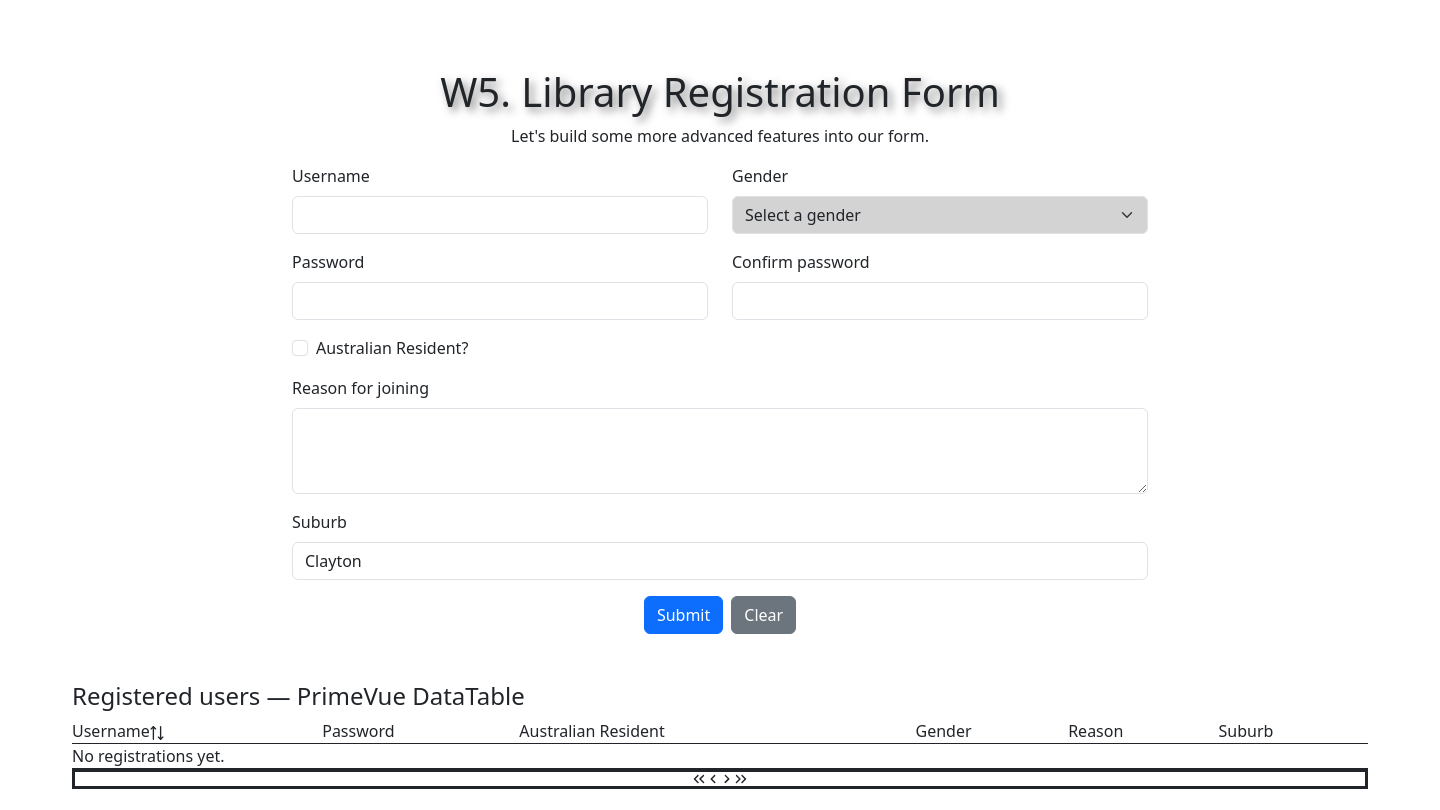
Scenario: LibraryRegistrationForm › displays submitted user information in a Bootstrap card
Step 1. Type "Dinuo" into the field with id "username" → [500, 215], box [292,196,708,234]
Step 2. Type "Secure1!" into the password field labelled "Password" → [500, 301], box [292,282,708,320]
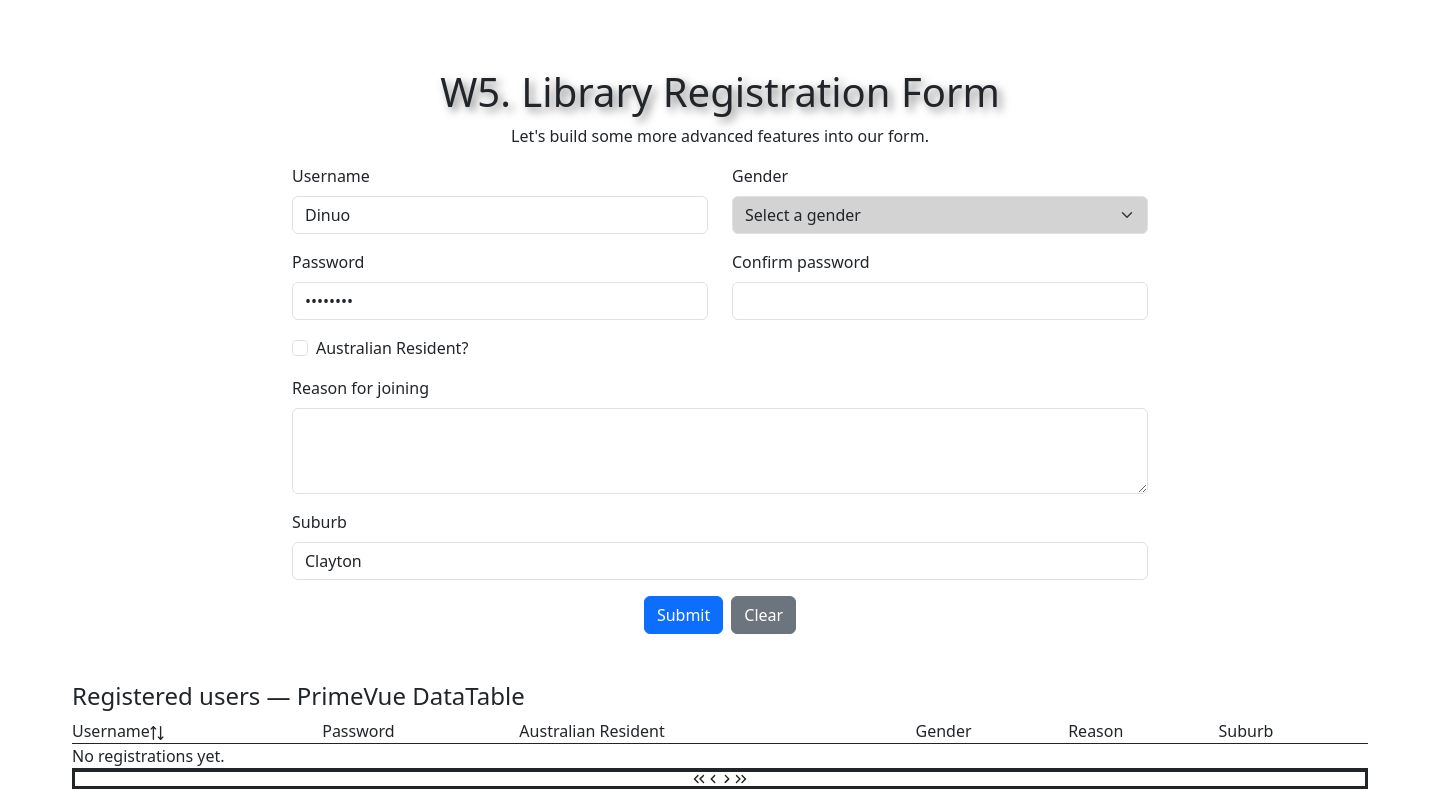
Step 3. Type "Secure1!" into the password field with id "confirm-password" → [940, 301], box [732,282,1148,320]
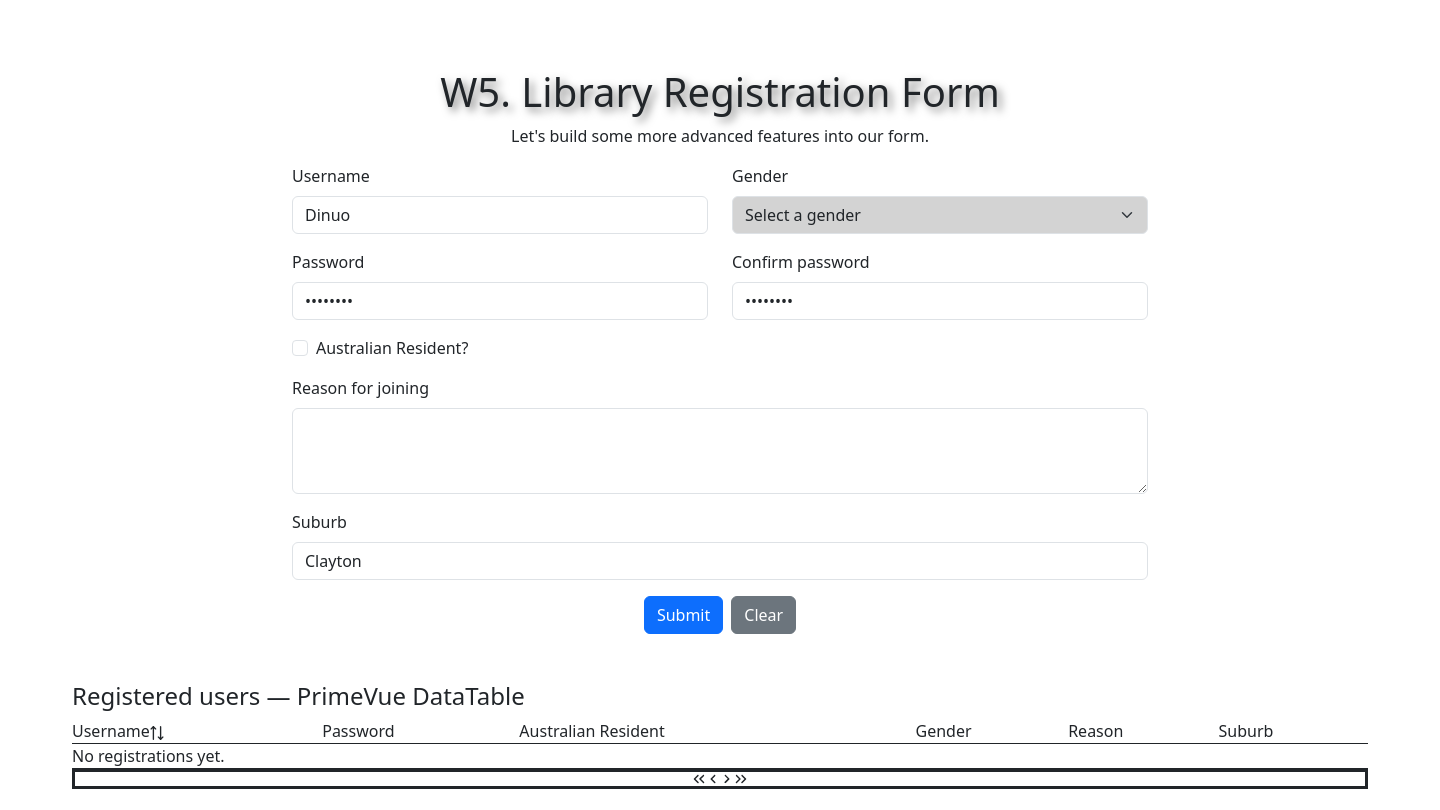
Step 4. Click the checkbox with id "isAustralian" → [300, 348], box [292,340,308,356]
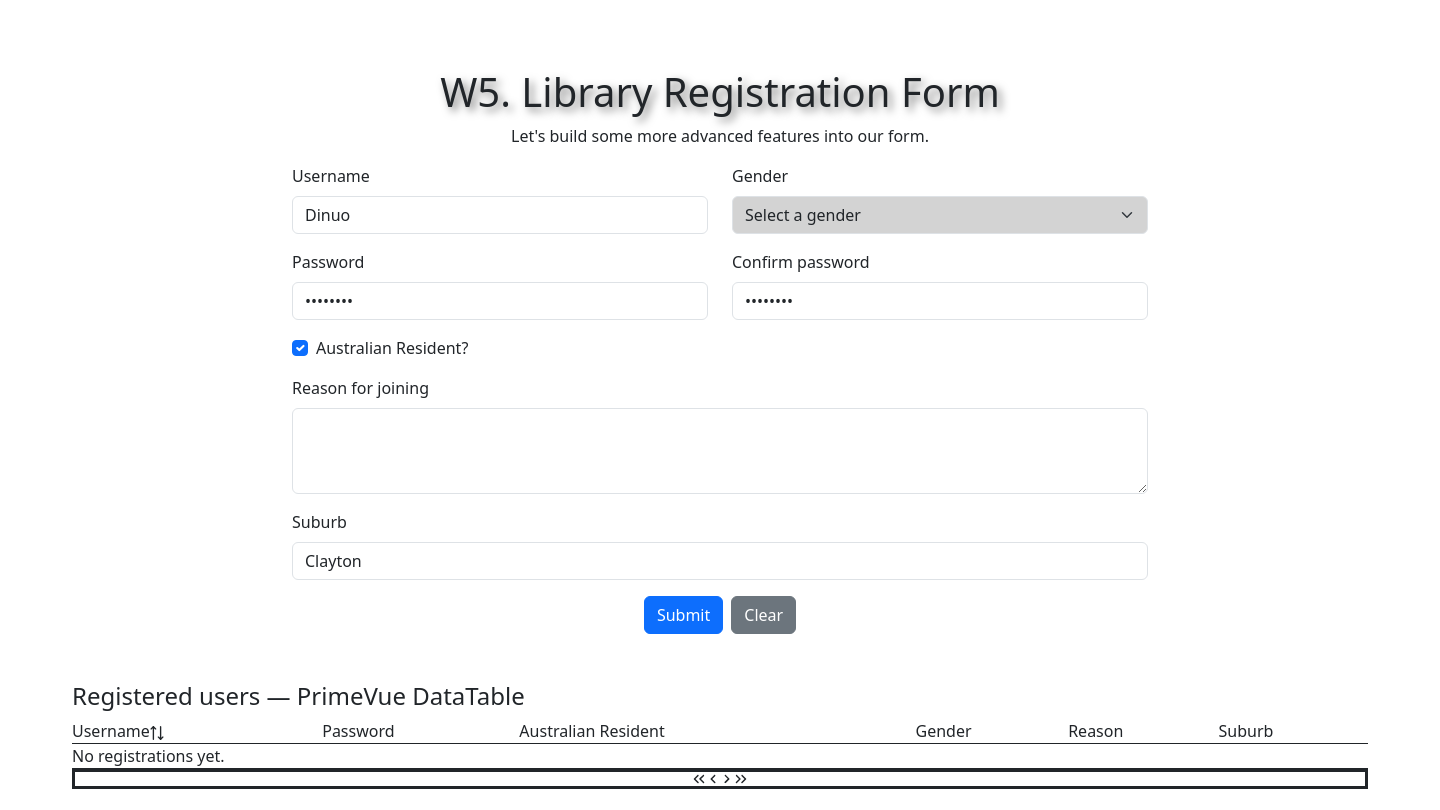
Step 5. Select "Female" in the dropdown with id "gender" → [940, 215], box [732,196,1148,234]
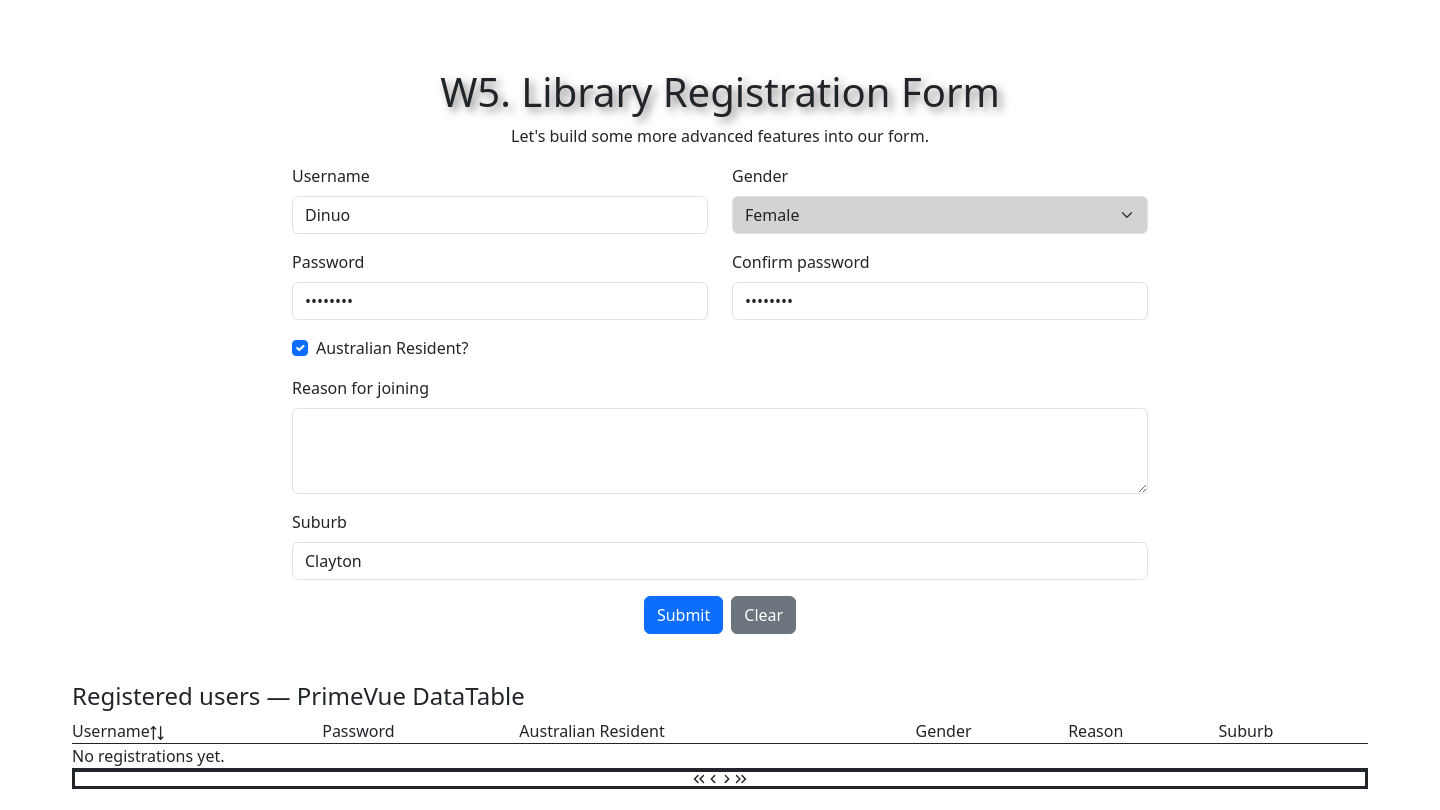
Step 6. Type "I enjoy reading." into the text box with id "reason" → [720, 451], box [292,408,1148,494]
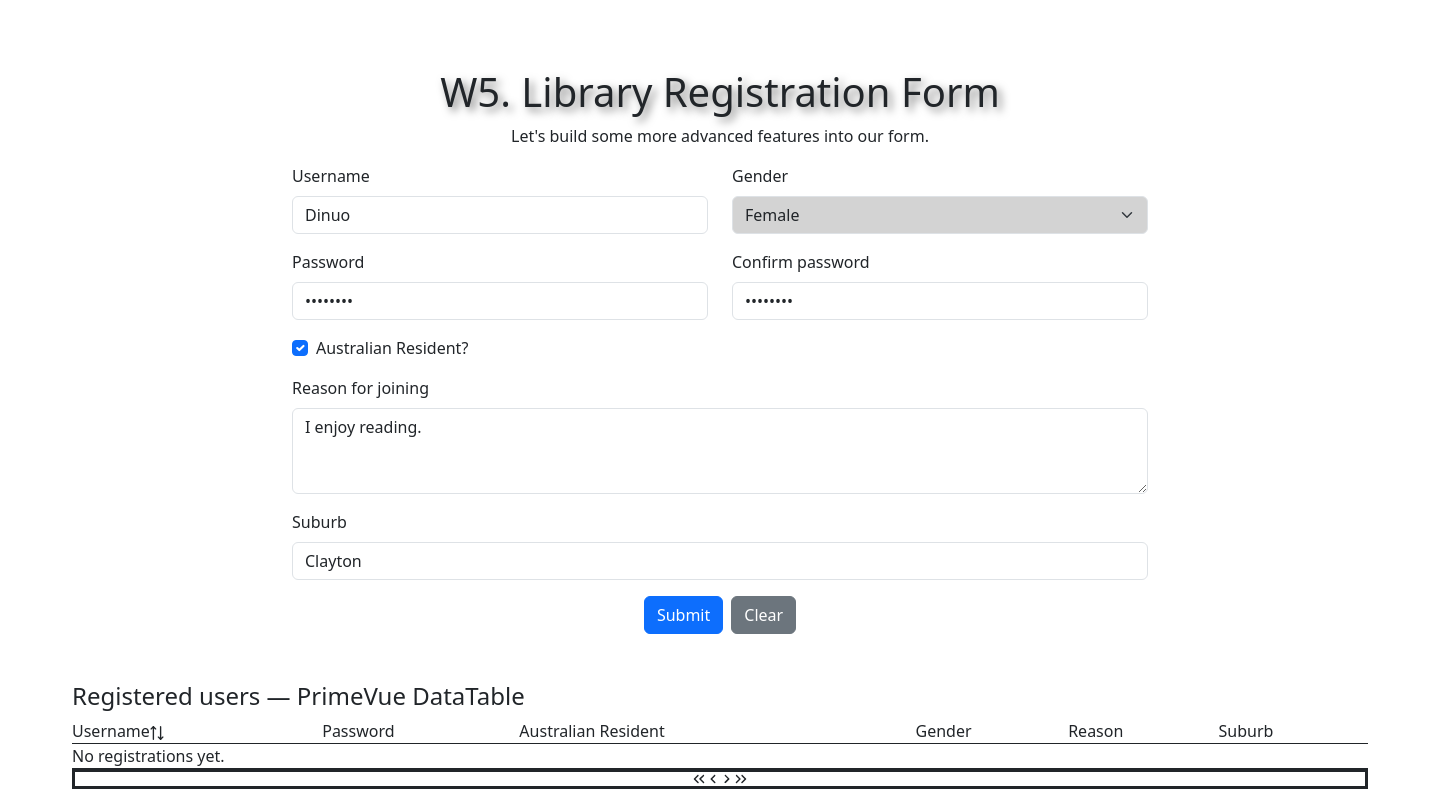
Step 7. Submit the form, box [292,164,1148,634]
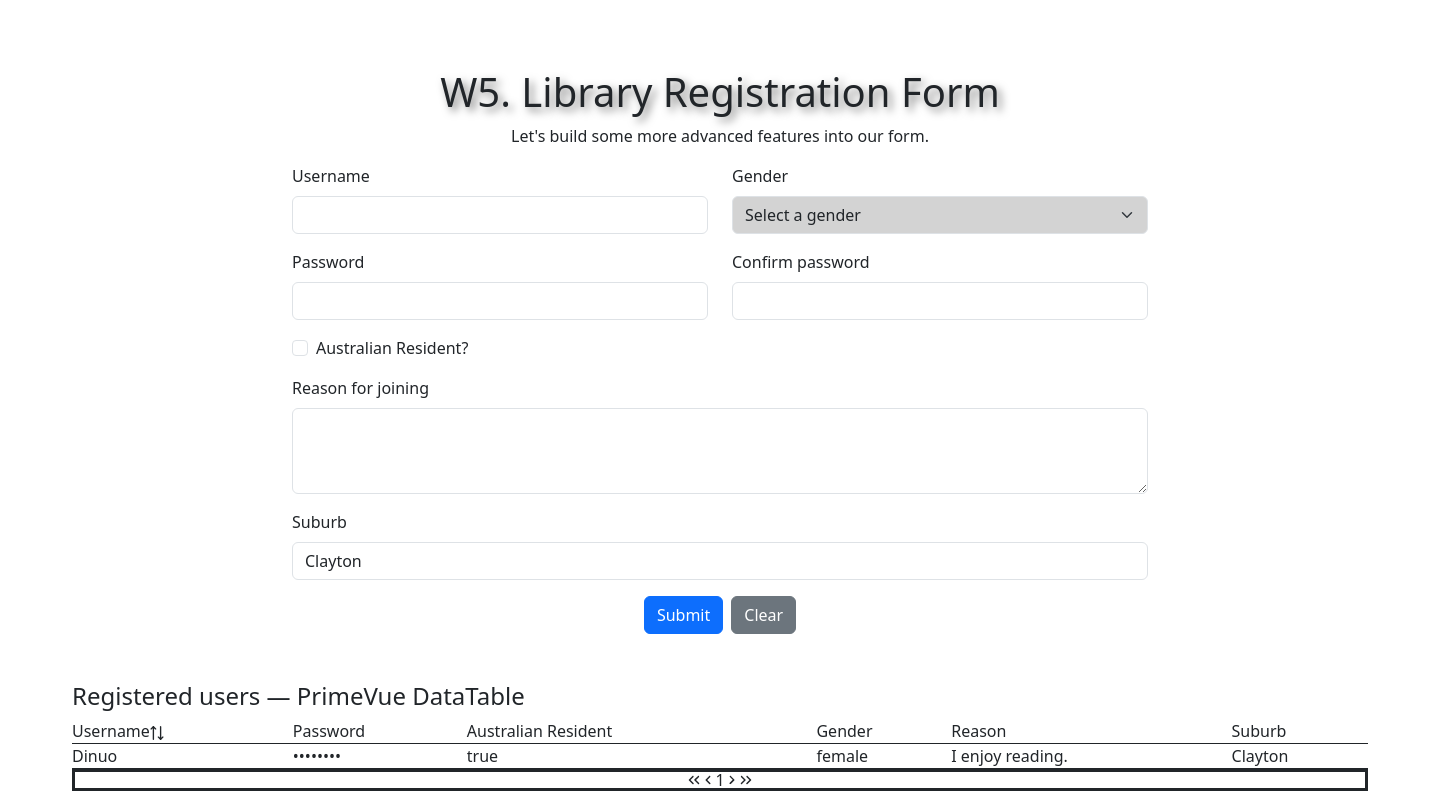
Result: the checkbox with id "isAustralian" is not checked at [292,340,308,356]
Result: the field with id "username" is empty at [292,196,708,234]
Result: the password field labelled "Password" is empty at [292,282,708,320]
